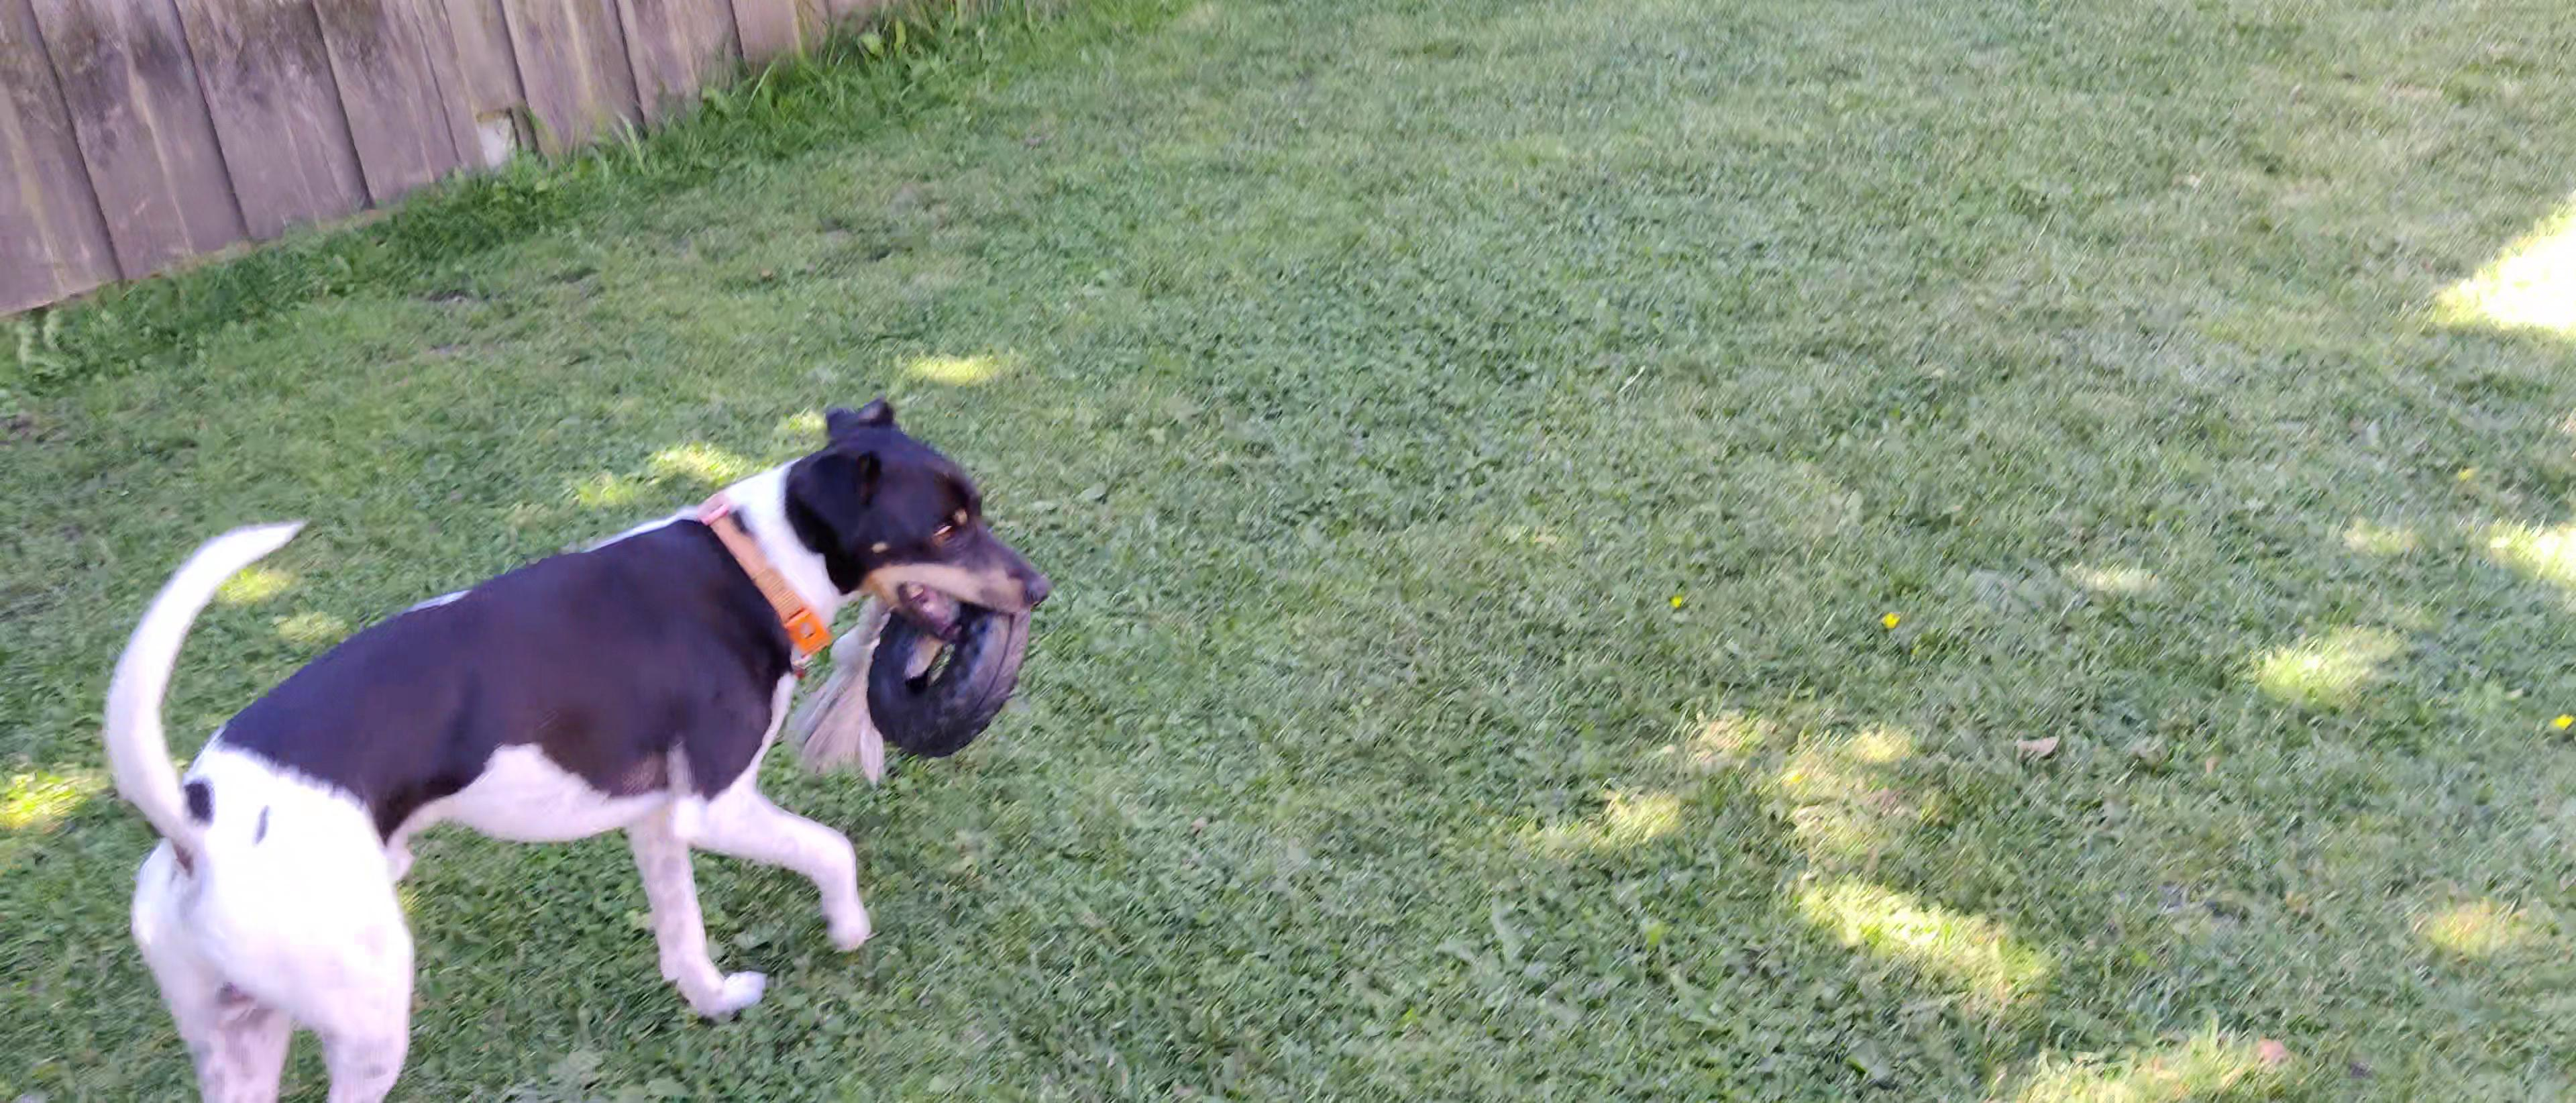Dog: (69, 378, 1073, 1103)
